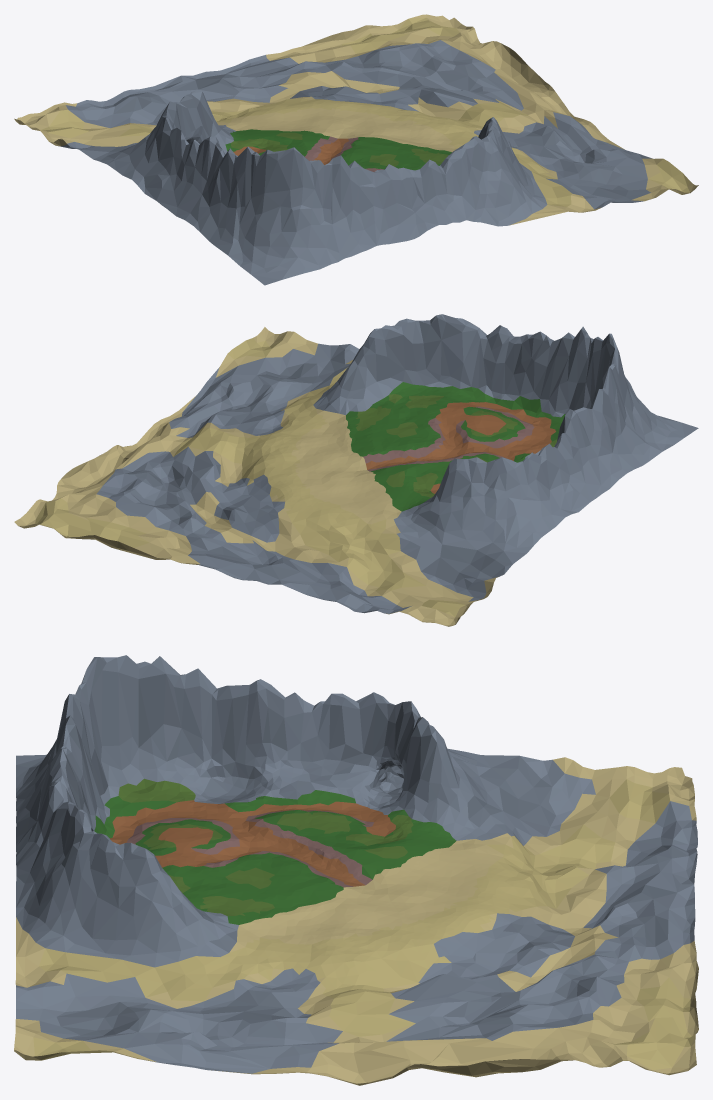
Rendered from Island.fbx.
3 renders of one model, top to bottom at view 1: azimuth 30°, elevation 25°; view 2: azimuth 150°, elevation 25°; view 3: azimuth 270°, elevation 25°, orthographic. The views are drawn at different scales.
Parts seen in each view (by area): view 1: Island; view 2: Island; view 3: Island.
Part boxes in pixels (x1=…): Island: x1=14, y1=14, x2=698, y2=285; Island: x1=14, y1=314, x2=698, y2=626; Island: x1=14, y1=655, x2=698, y2=1085.
Size of the model in its own units: 102396 by 29612 by 101023.
